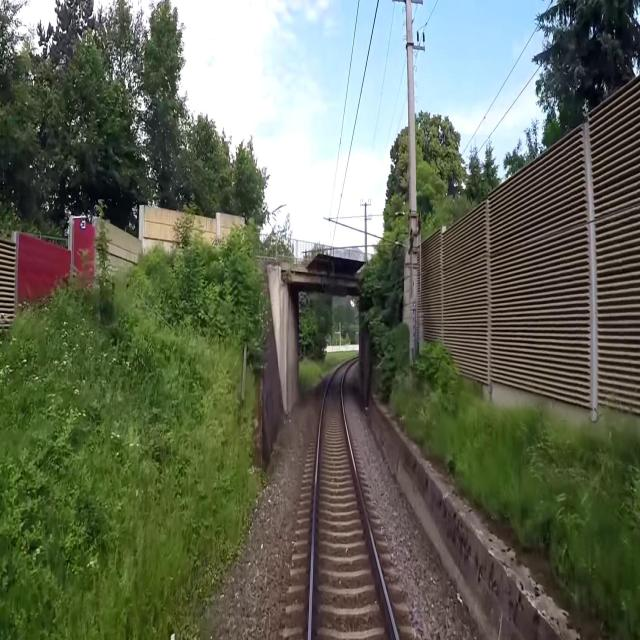rail-track: (312, 364, 394, 639)
